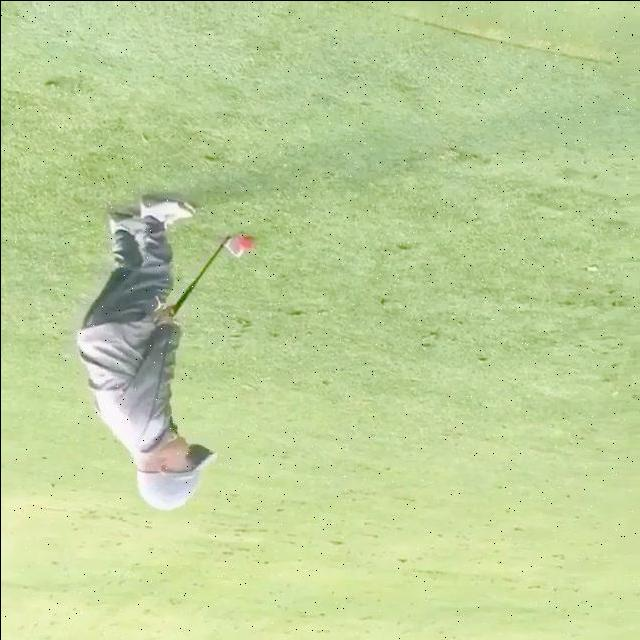golf ball: (240, 236, 253, 250)
golf club-handle: (169, 235, 243, 318)
golf club-head: (225, 235, 243, 257)
